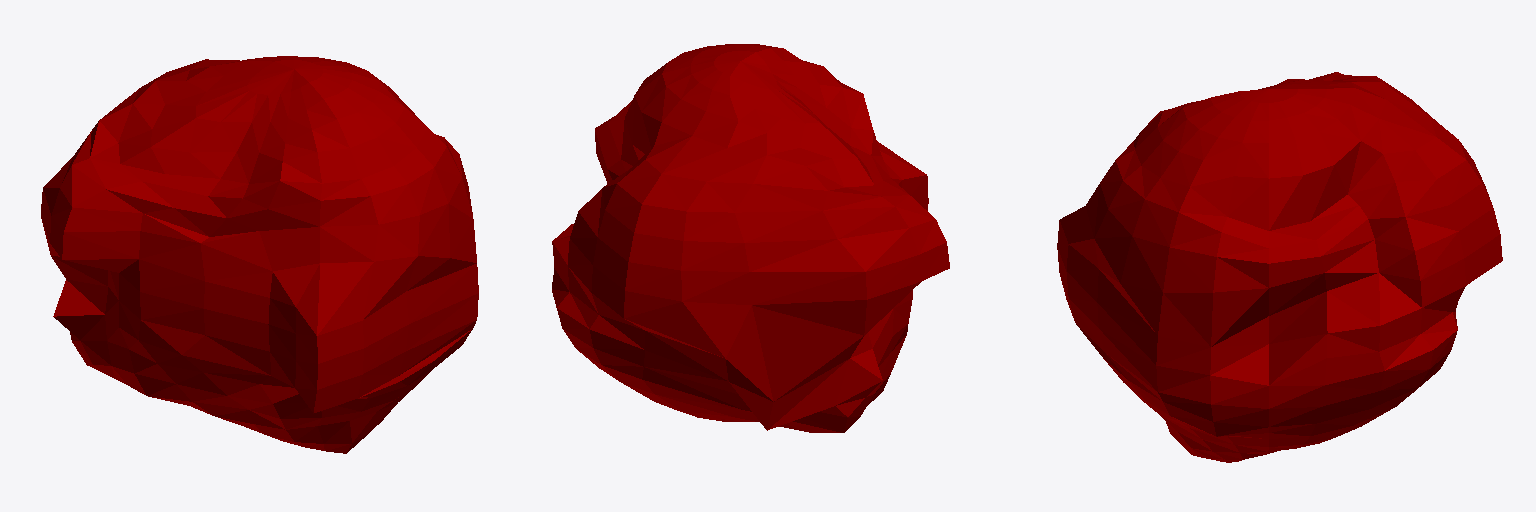
Rendered from meteor_red.obj.
The picture shows the model from 3 angles: view 1: azimuth 30°, elevation 25°; view 2: azimuth 150°, elevation 25°; view 3: azimuth 270°, elevation 25°; orthographic projection.
Bounding box in the file's own units: 2.86 × 2.66 × 2.94.